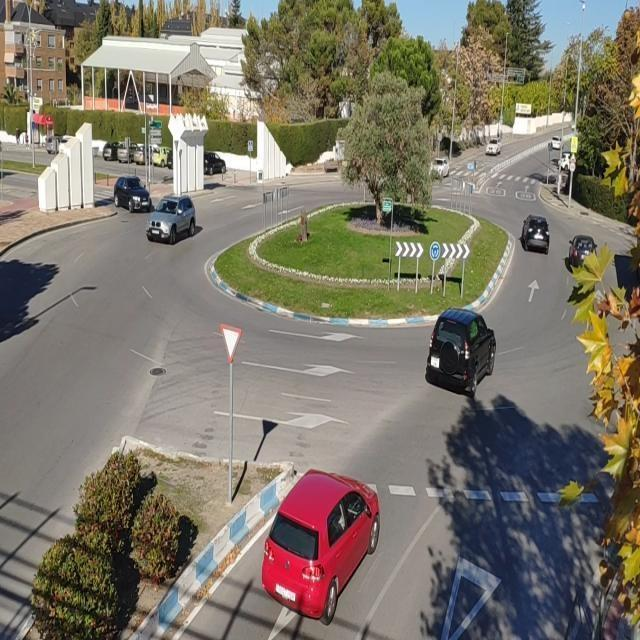Car: (258, 466, 383, 620), (414, 304, 504, 400), (144, 185, 207, 248), (103, 165, 156, 216), (563, 232, 605, 278), (515, 217, 553, 255), (482, 130, 505, 166), (427, 158, 459, 182)
